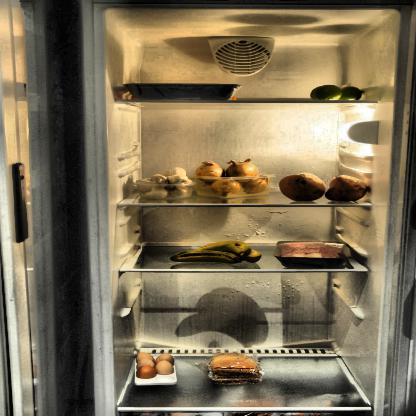banana: (172, 239, 262, 264)
eggs: (138, 348, 174, 379)
ground_beef: (273, 242, 352, 262)
lime: (311, 85, 365, 104)
mushrooms: (136, 167, 195, 202)
onion: (197, 159, 268, 196)
sweet_potato: (276, 171, 373, 204)
